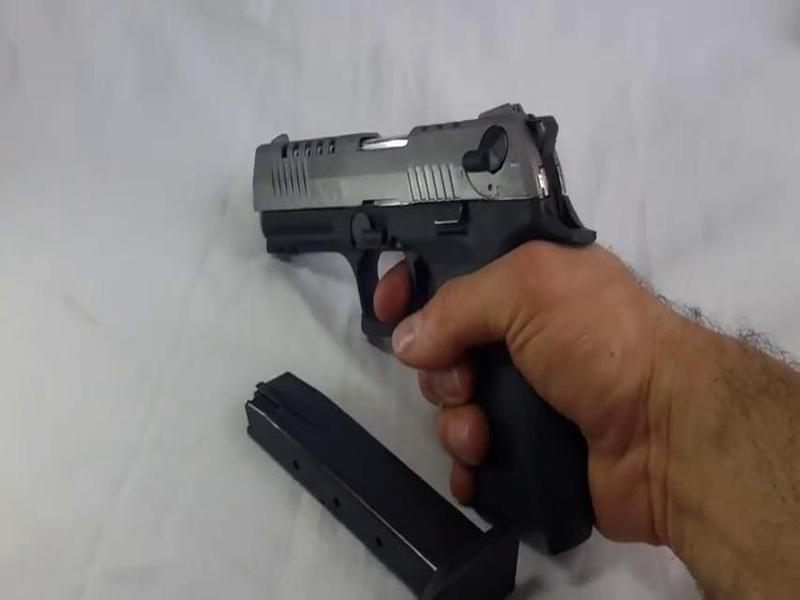Pistola: (243, 101, 593, 460)
